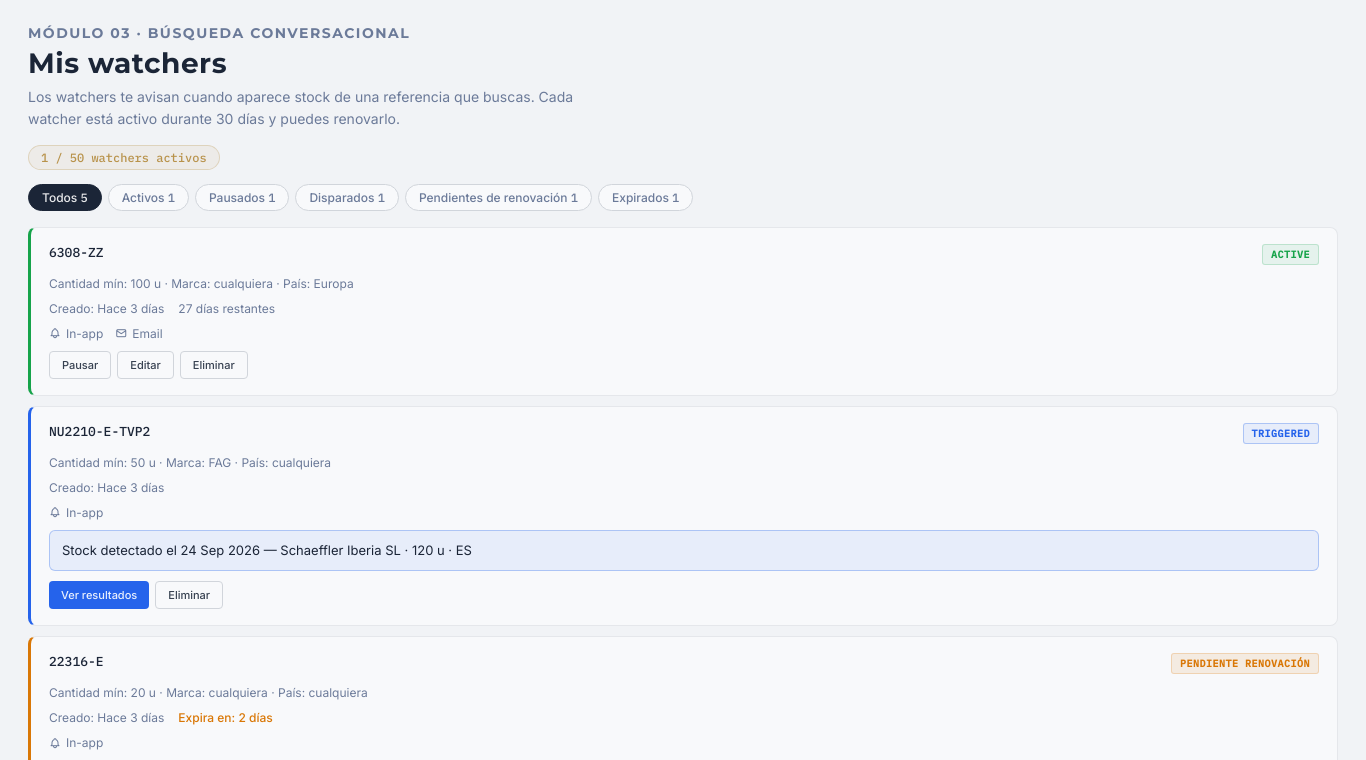
Scenario: Watchers · acciones › si la acción falla, el error va a un role=alert y NO se repide la lista
Check: the element named "Watcher 6308-ZZ" is shown, box [28,227,1338,396]
Click the button with aria-label "Pausar — 6308-ZZ" at (80, 365), box [49,351,111,379]
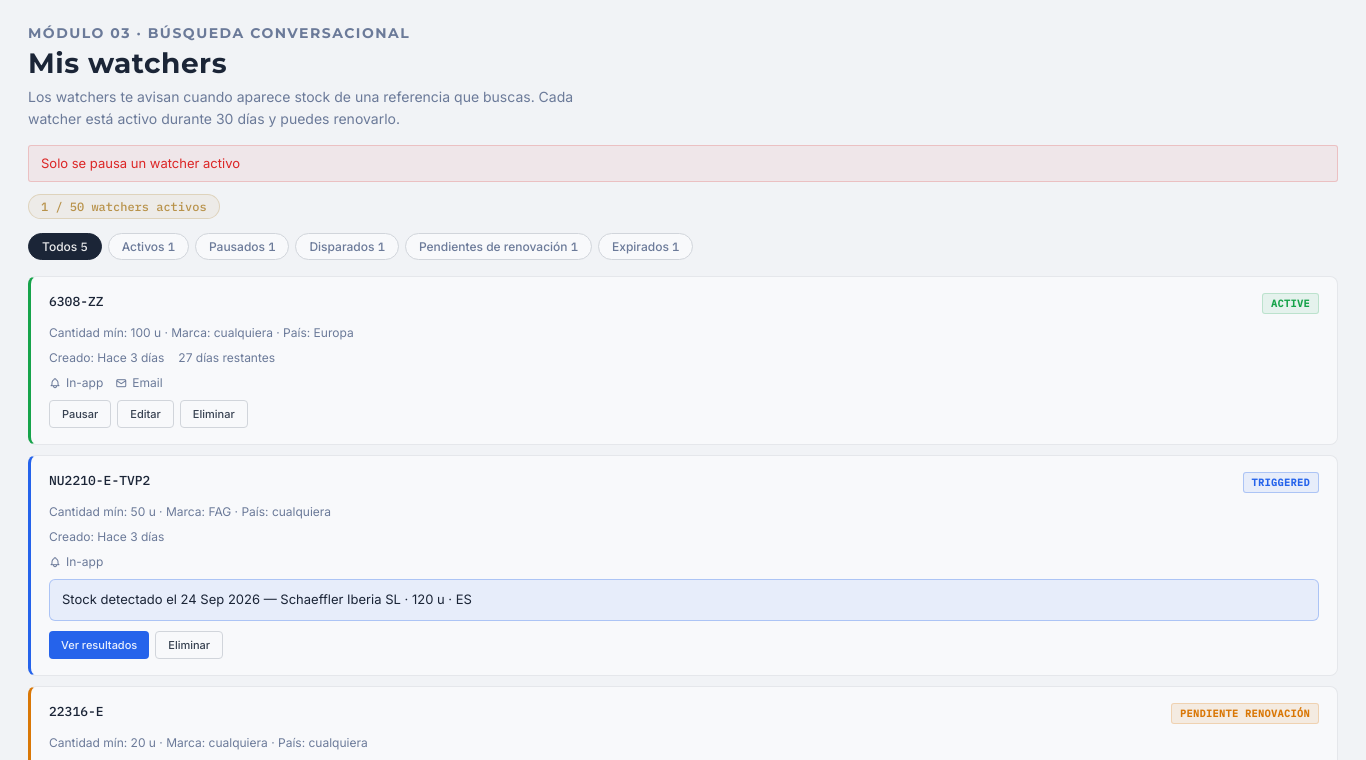
Check: the message reads "Solo se pausa un watcher activo", box [41,155,240,171]
